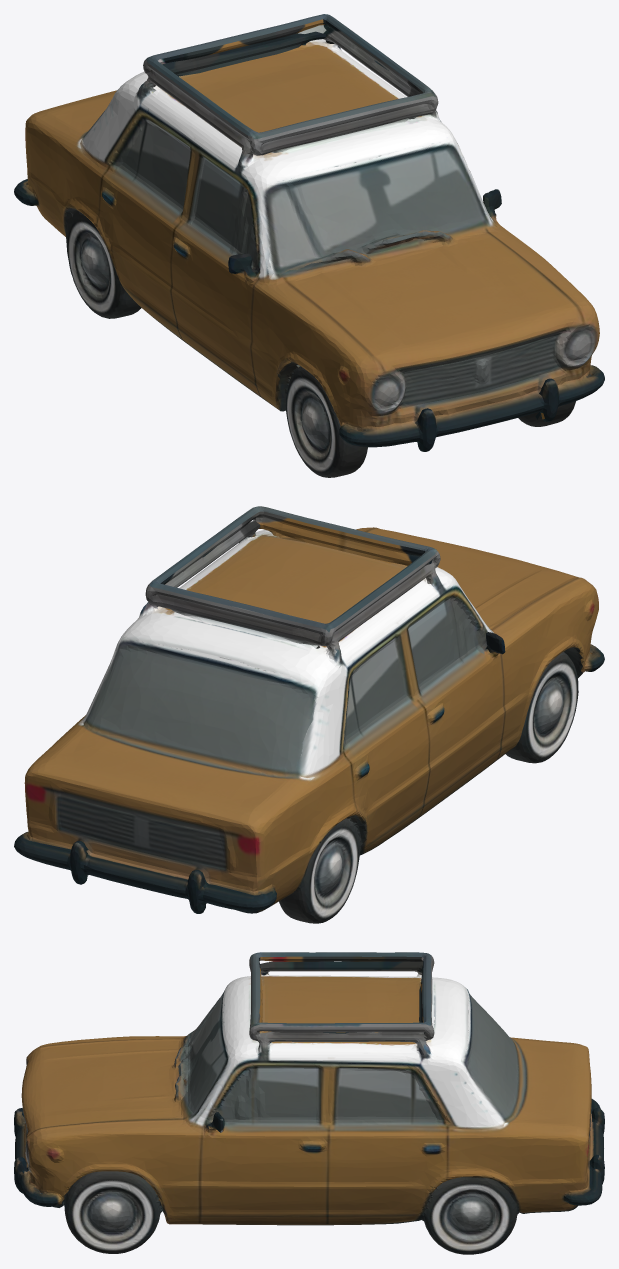
File: samir128.glb
3 renders of one model, top to bottom at view 1: azimuth 30°, elevation 25°; view 2: azimuth 150°, elevation 25°; view 3: azimuth 270°, elevation 25°, orthographic. The views are drawn at different scales.
Visible parts, largest first — view 1: tmpqf_mjshu.ply; view 2: tmpqf_mjshu.ply; view 3: tmpqf_mjshu.ply.
Boxes of the visible parts, x1,y1,x2,y2 form: tmpqf_mjshu.ply: [14, 14, 604, 477]; tmpqf_mjshu.ply: [14, 506, 604, 923]; tmpqf_mjshu.ply: [14, 952, 604, 1254].
Size of the model in its own units: 0.8697 by 0.823 by 1.99.
Materials: 1 (1 with a texture image).
